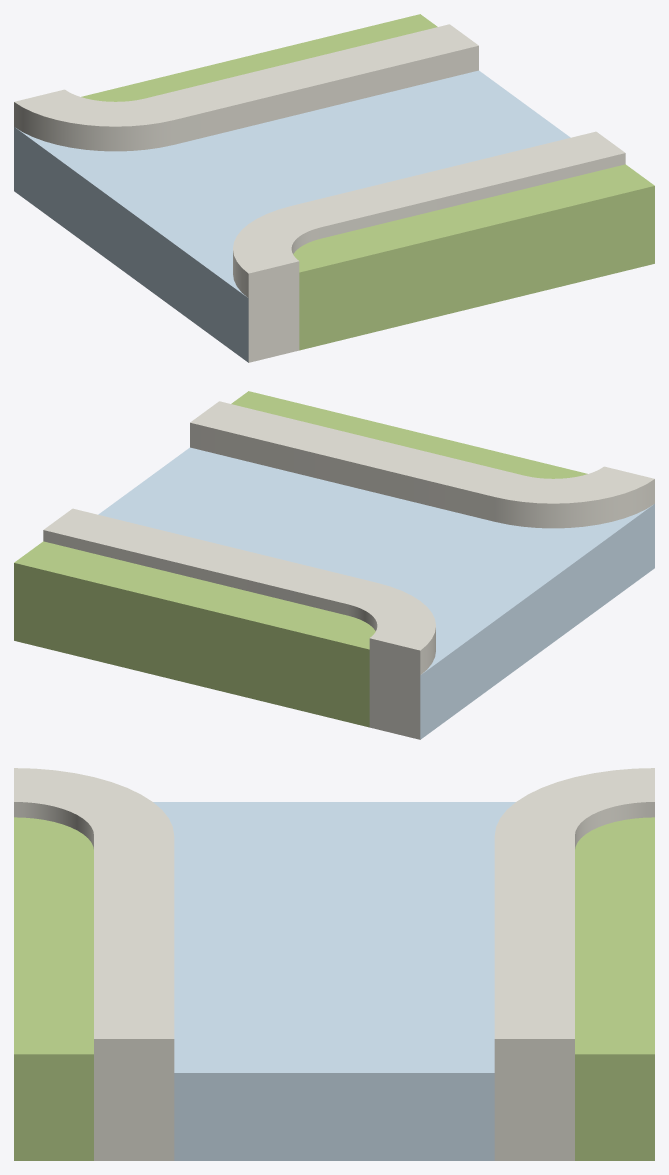
File: tile133.glb
3 renders of one model, top to bottom at view 1: azimuth 30°, elevation 25°; view 2: azimuth 150°, elevation 25°; view 3: azimuth 270°, elevation 25°, orthographic. The views are drawn at different scales.
Visible parts, largest first — view 1: tile133; view 2: tile133; view 3: tile133.
Boxes of the visible parts, left/top/right/bottom form: tile133: left=14, top=14, right=654, bottom=362; tile133: left=14, top=391, right=654, bottom=739; tile133: left=14, top=768, right=654, bottom=1160.
Size of the model in its own units: 1 by 0.21 by 1.
